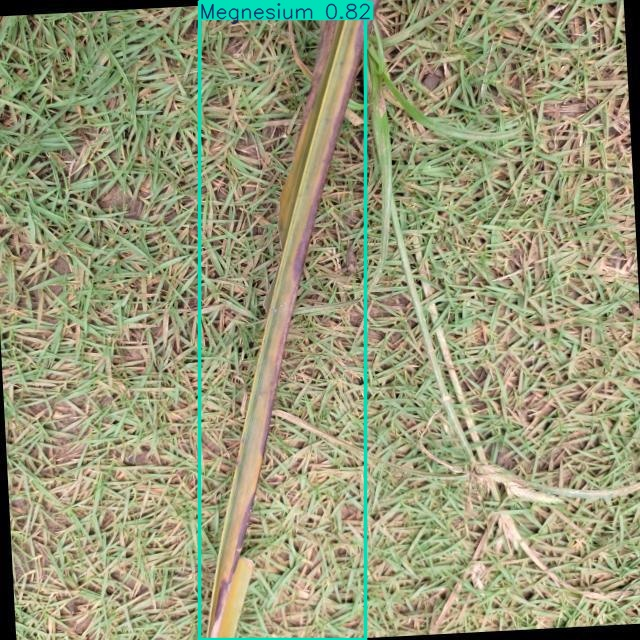Megnesium: (200, 1, 365, 639)
